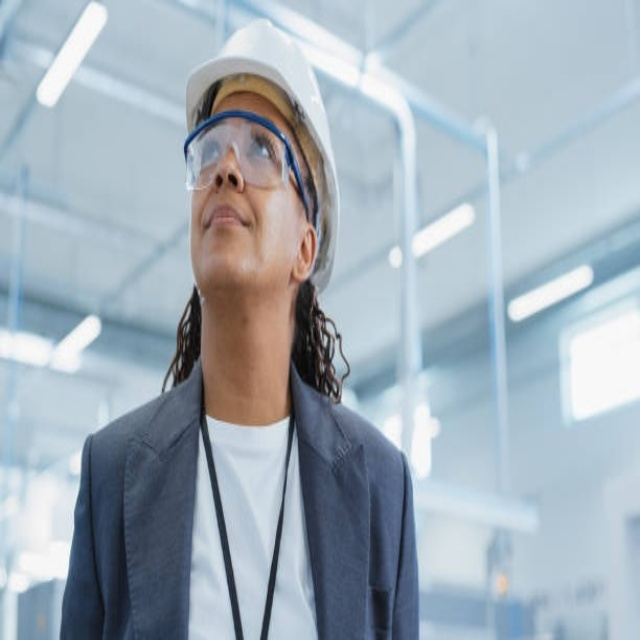Gafas: (183, 119, 312, 206)
Sin_mascara: (201, 201, 252, 266)
